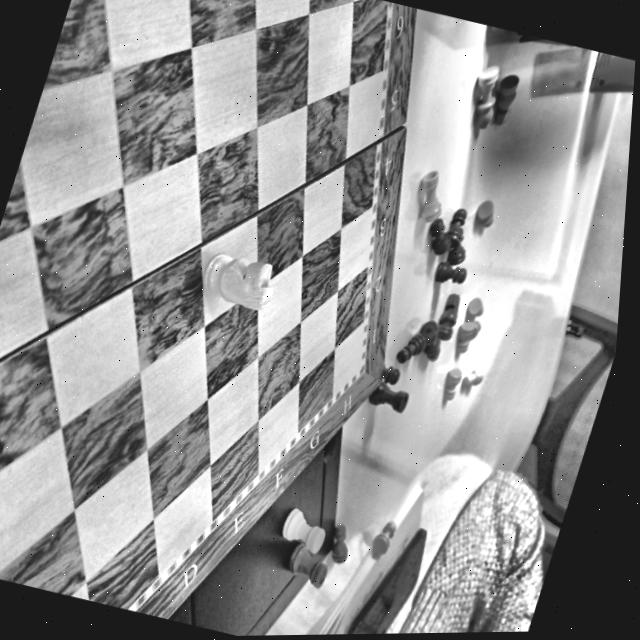white-knight: (175, 240, 287, 329)
